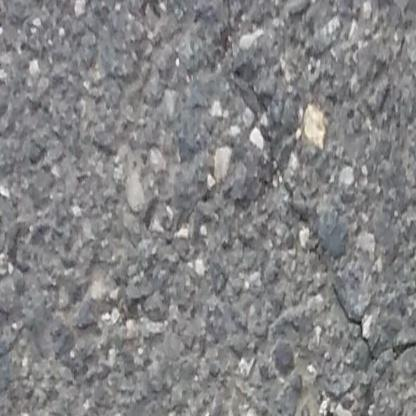Cracks: (233, 69, 315, 230), (331, 280, 416, 376)
